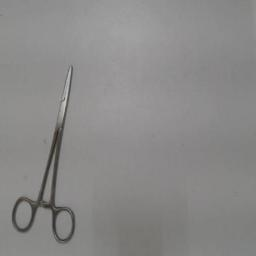Mayo Needle Holder: (8, 57, 80, 249)
